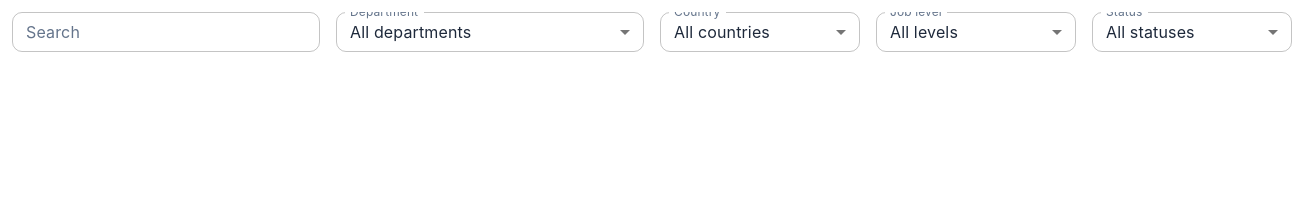
Scenario: EmployeeFilters › lists department options fetched from the lookups API
The image size is (1292, 197).
Click the dropdown labelled "department". click: (411, 32)
box: [350, 22, 471, 42]
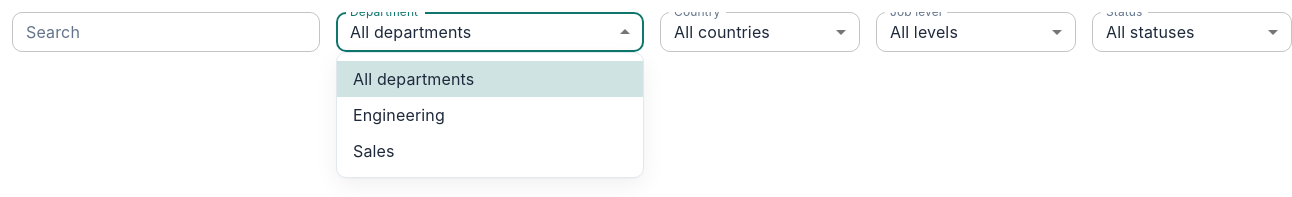
Result: the option "Engineering" is shown at [353, 105, 445, 125]
Result: the option "Sales" is shown at [353, 141, 395, 161]
